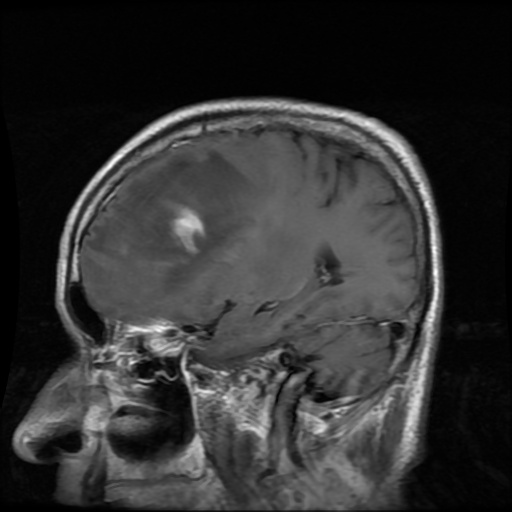glioma: (88, 149, 252, 290)
